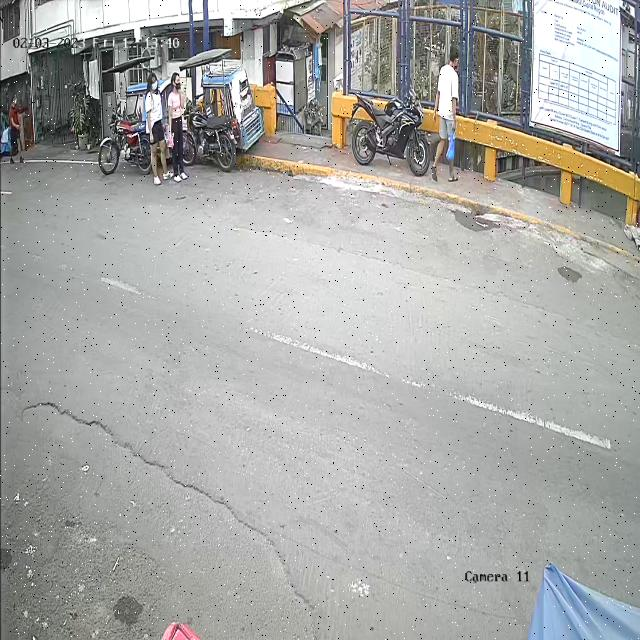human: (431, 45, 459, 183)
trash: (442, 114, 458, 168)
